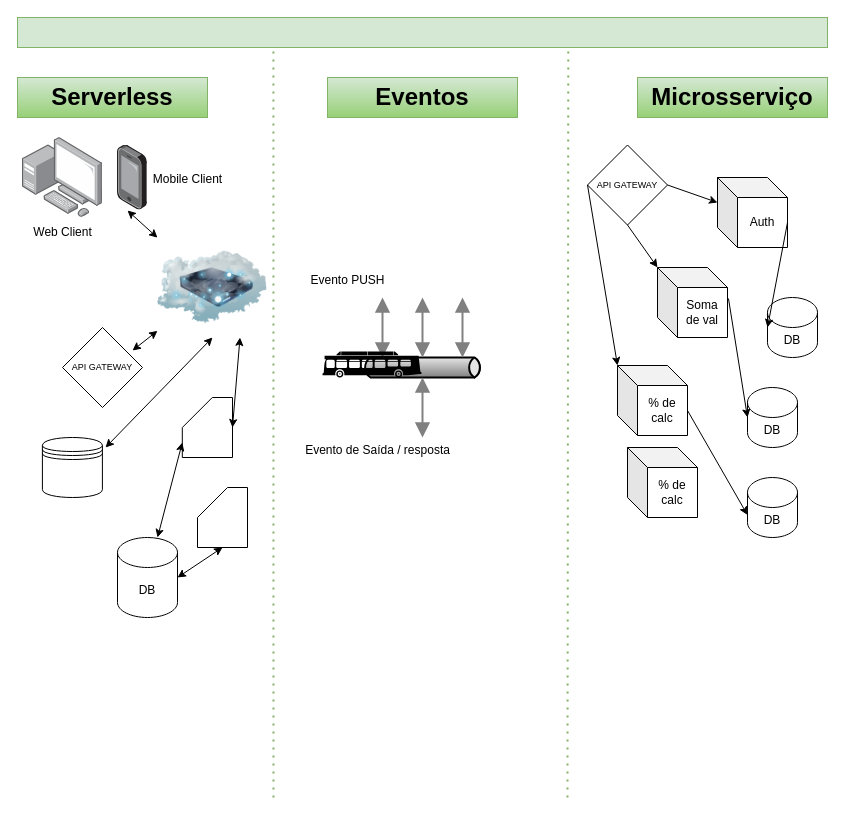
Image size: 845x817. Some labels were removed from this diagram. The shapes that lost their labels are listed below. From the top down, each one's centre as x and y in pixels, then its label:
At point 422,32: "Exemplos de arquitetura de aplicações".
At point 206,427: "F1".
At point 71,467: "External DB".
At point 222,517: "F2".
